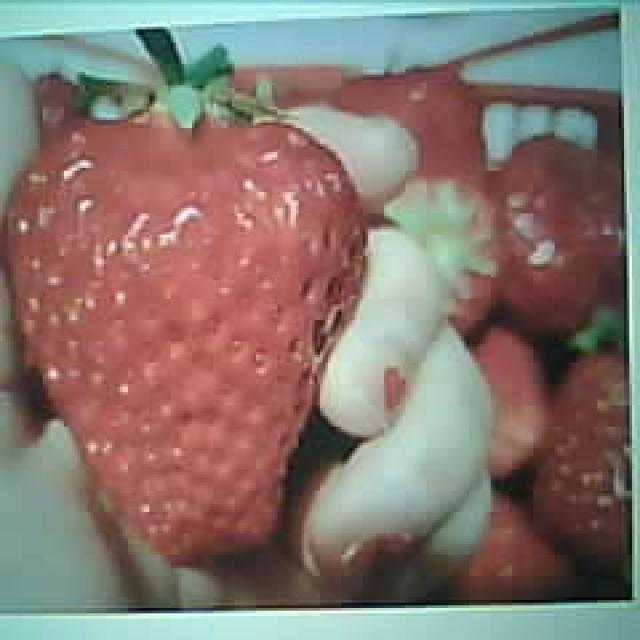ripe: (4, 110, 367, 564)
